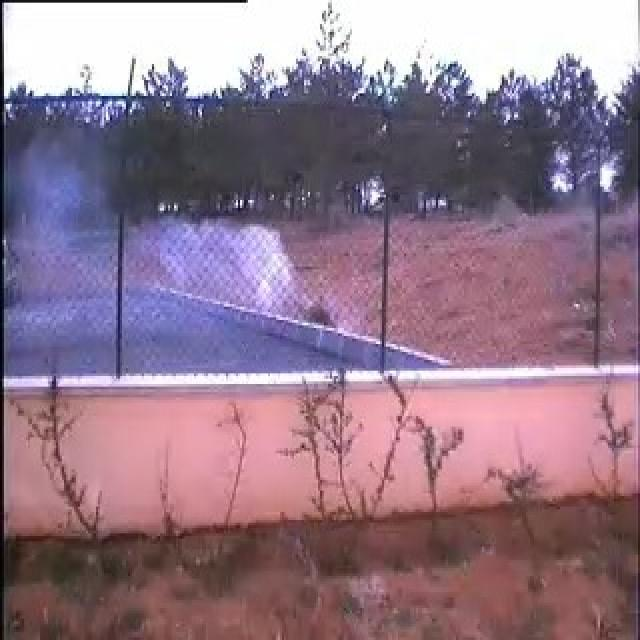smoke: (68, 182, 325, 373)
